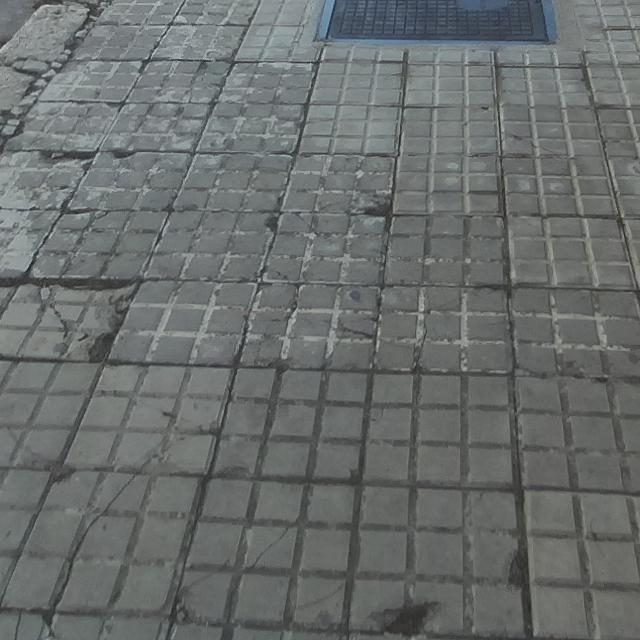calcada_quebrada: (55, 435, 182, 612), (245, 526, 291, 570), (11, 610, 26, 640)
